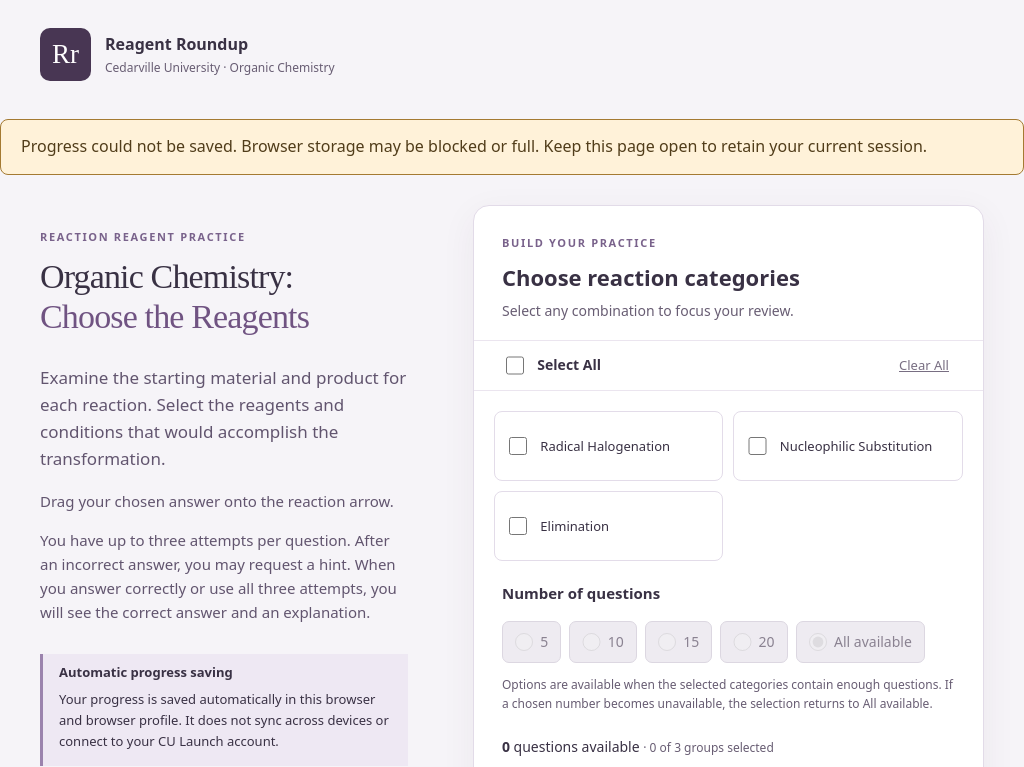
Test: automatic saving and session restoration › shows an actionable storage failure without preventing practice
Expected: the 1st message shows "Progress could not be saved", [21, 135, 927, 157]
Step 1. Click the checkbox labelled "Radical Halogenation" → [518, 446], box [509, 436, 527, 455]
(page scrolled)
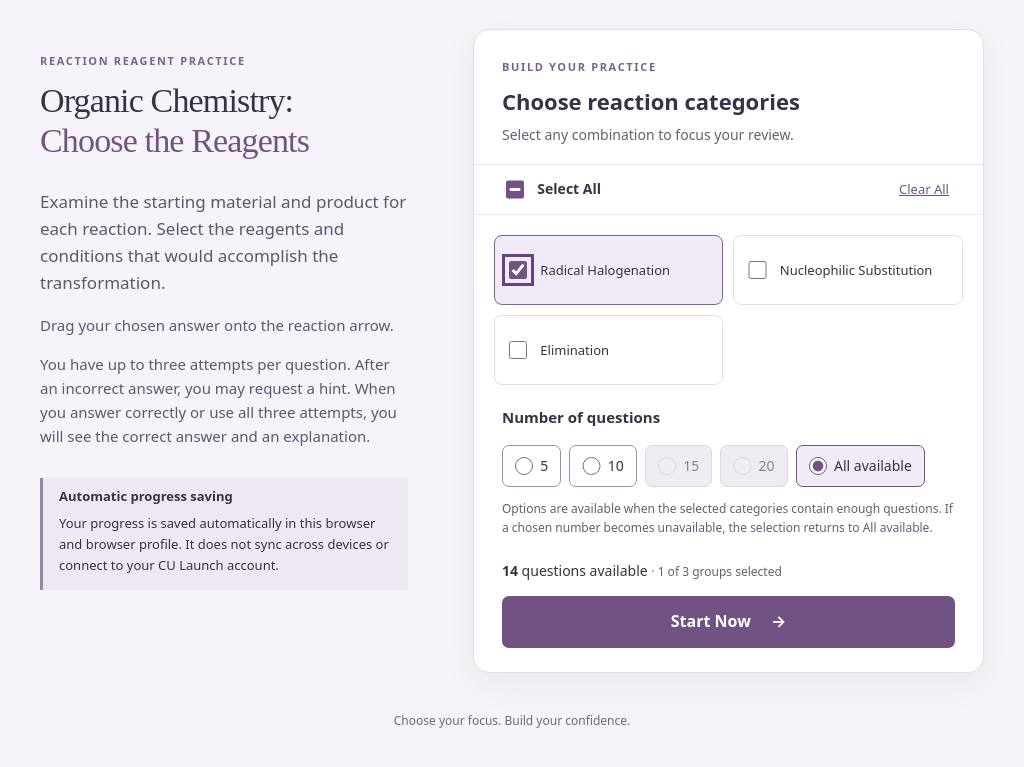
Step 2. Click the button "Start Now →" → [728, 622], box [502, 596, 955, 648]
(page scrolled)
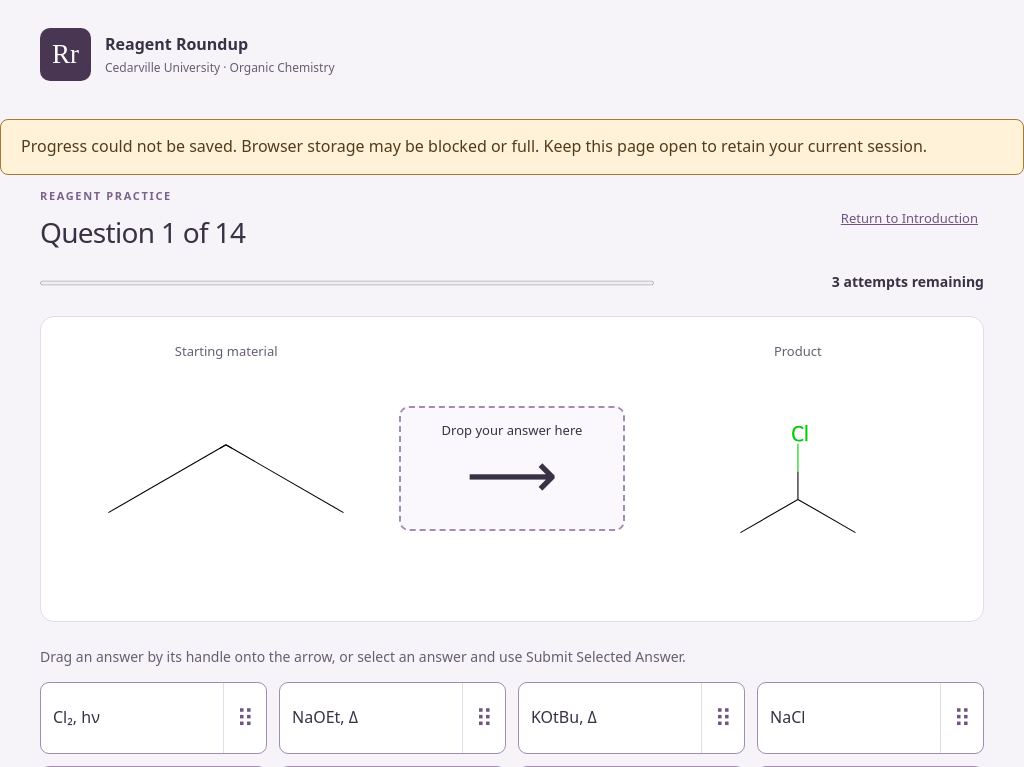
Result: the heading "Question 1 of 14" is shown at [40, 216, 245, 249]
